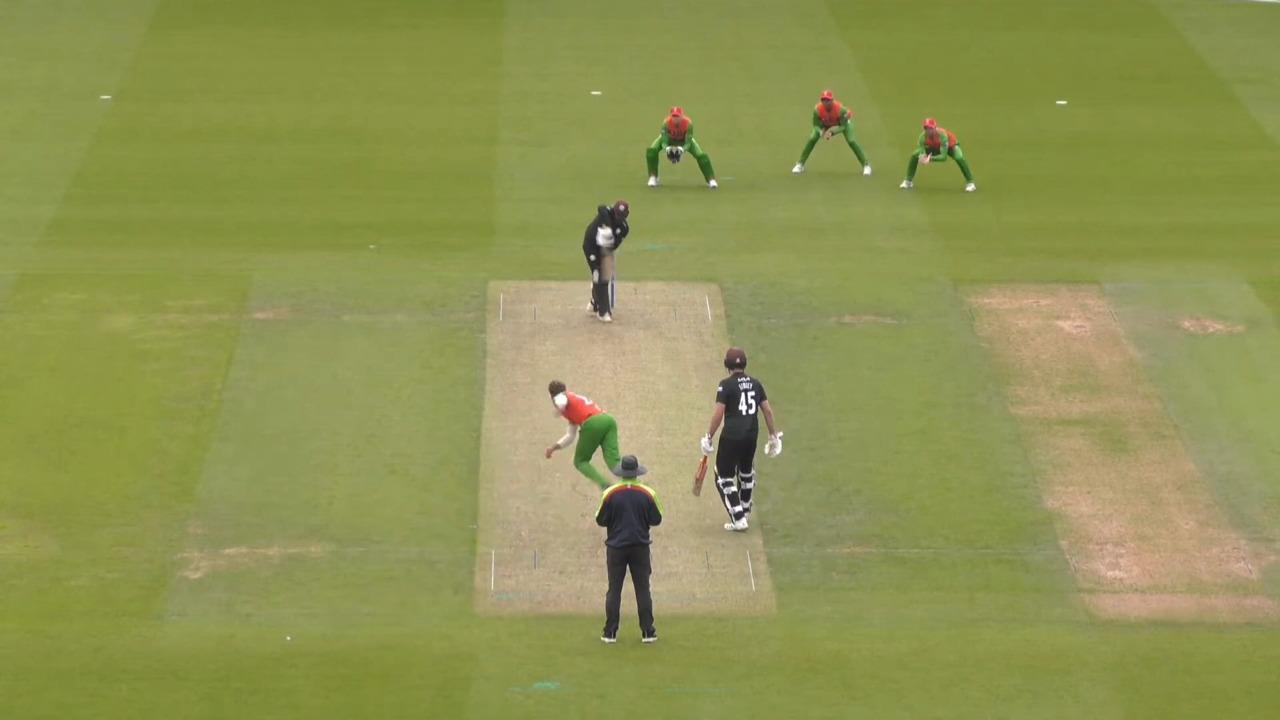sports ball: (593, 269, 599, 284)
